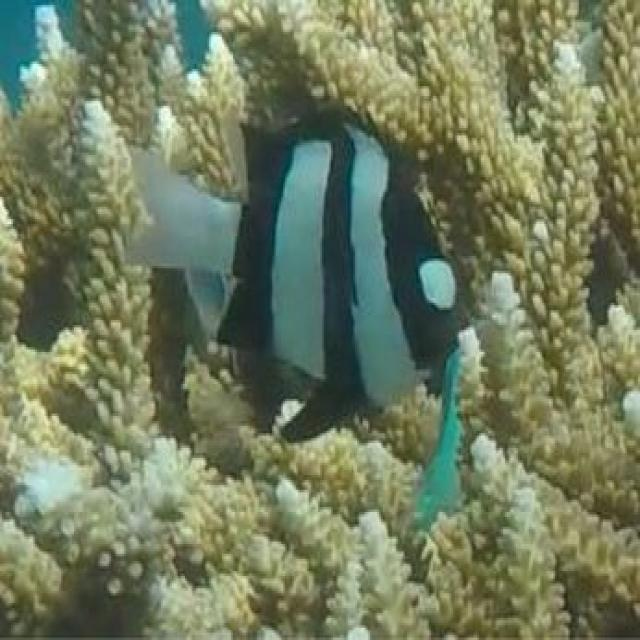ThreeStripedDamselfish: (129, 103, 461, 446)
